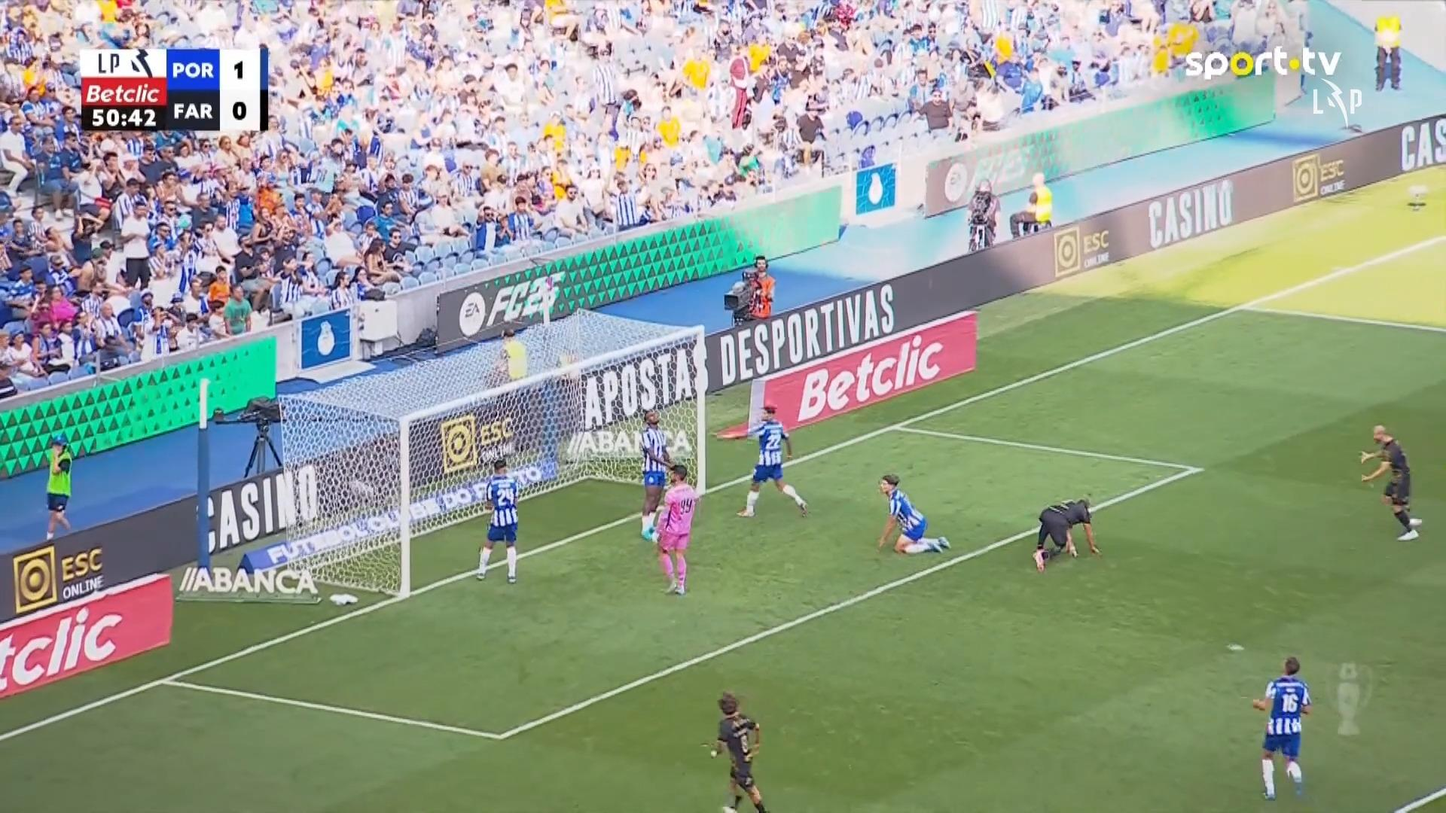goalkeeper: (652, 464, 699, 595)
player: (734, 401, 809, 519), (1251, 655, 1312, 799), (1358, 423, 1422, 540), (709, 690, 767, 811), (875, 472, 950, 555), (474, 458, 520, 583), (1032, 495, 1101, 573), (638, 409, 675, 541)
